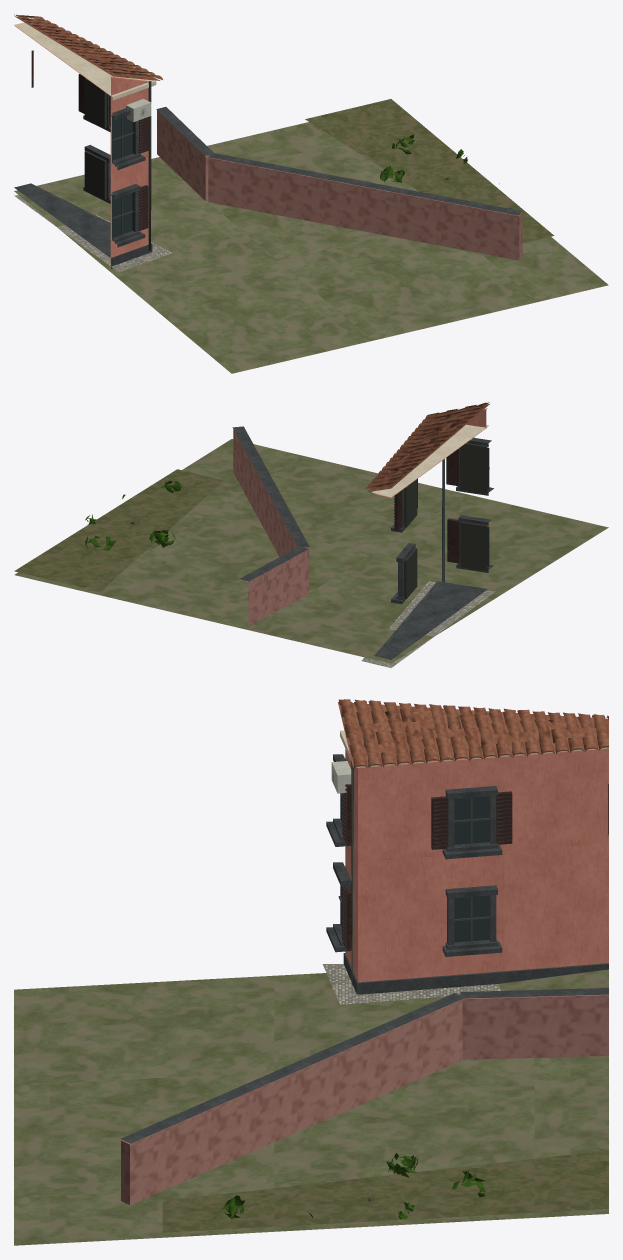
3 renders of one model, top to bottom at view 1: azimuth 30°, elevation 25°; view 2: azimuth 150°, elevation 25°; view 3: azimuth 270°, elevation 25°, orthographic. The views are drawn at different scales.
Size of the model in its own units: 16 by 8.75 by 16.
15 materials, 11 textured.
